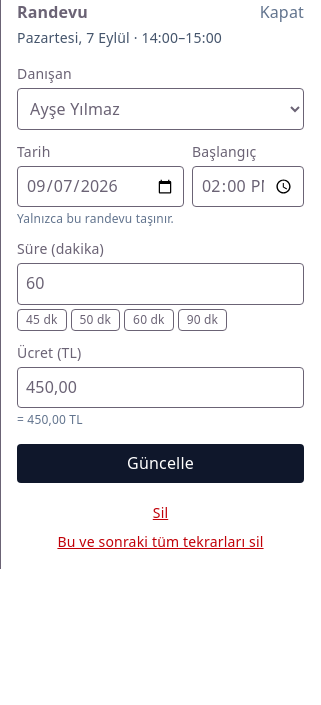
RandevuPaneli › I2: seri silme onayi da NOT sayisini soyler
Click the button "Bu ve sonraki tüm tekrarları sil".
click(160, 542)  # box [17,532,304,552]
(page scrolled)
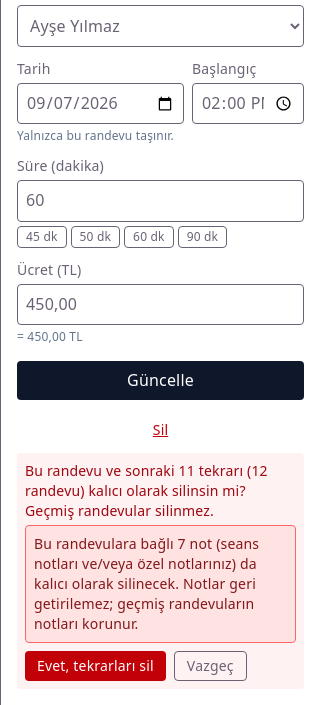
Now the text "12 randevu" is shown, box [25,461,296,521]
Now the text "geçmiş randevuların notları korunur" is shown, box [34,534,259,633]
